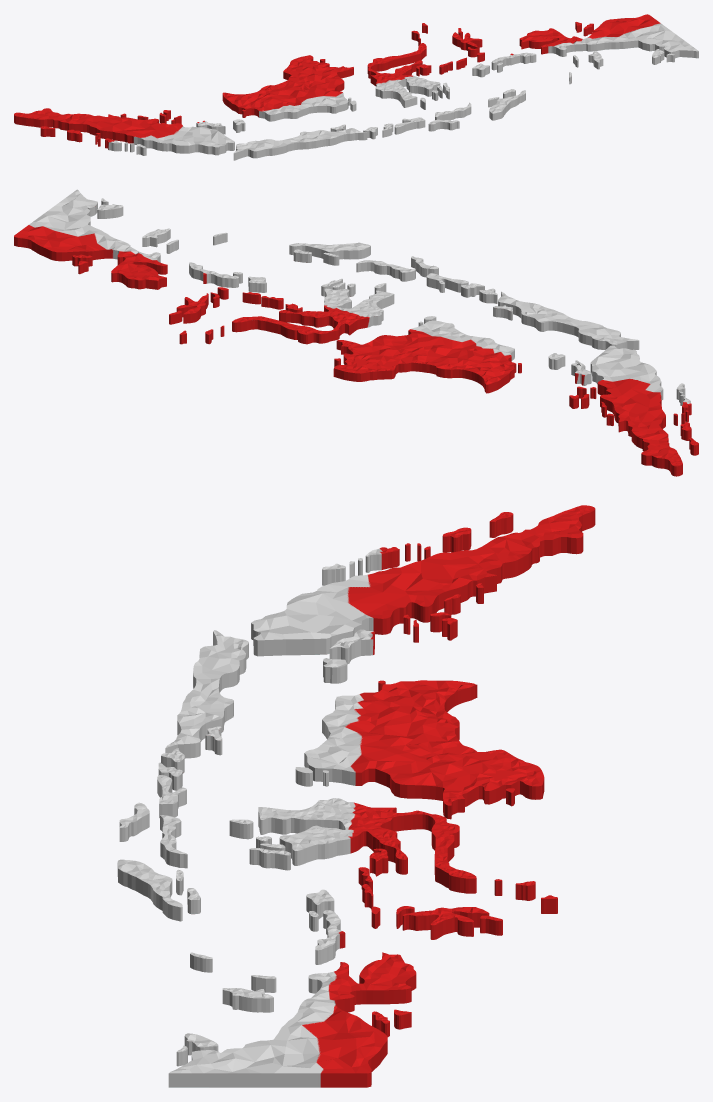
3 renders of one model, top to bottom at view 1: azimuth 30°, elevation 25°; view 2: azimuth 150°, elevation 25°; view 3: azimuth 270°, elevation 25°, orthographic. The views are drawn at different scales.
Visible parts, largest first — view 1: Plane.002; view 2: Plane.002; view 3: Plane.002.
Part boxes in pixels (x1=…): Plane.002: x1=14, y1=14, x2=698, y2=160; Plane.002: x1=14, y1=189, x2=698, y2=476; Plane.002: x1=117, y1=505, x2=595, y2=1087.
Bounding box in the file's own units: 9.99 × 0.1642 × 3.56.
1 material, 1 textured.
